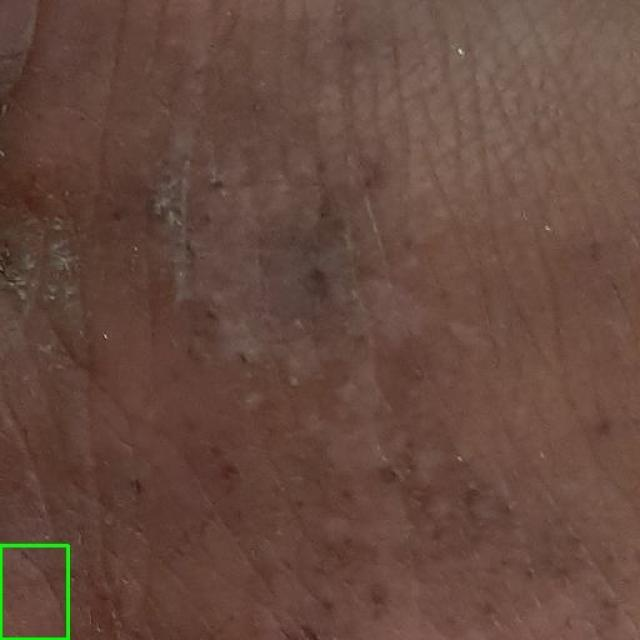Eczema: (0, 545, 68, 639)
